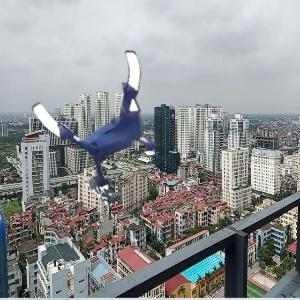drone: (48, 55, 177, 184)
